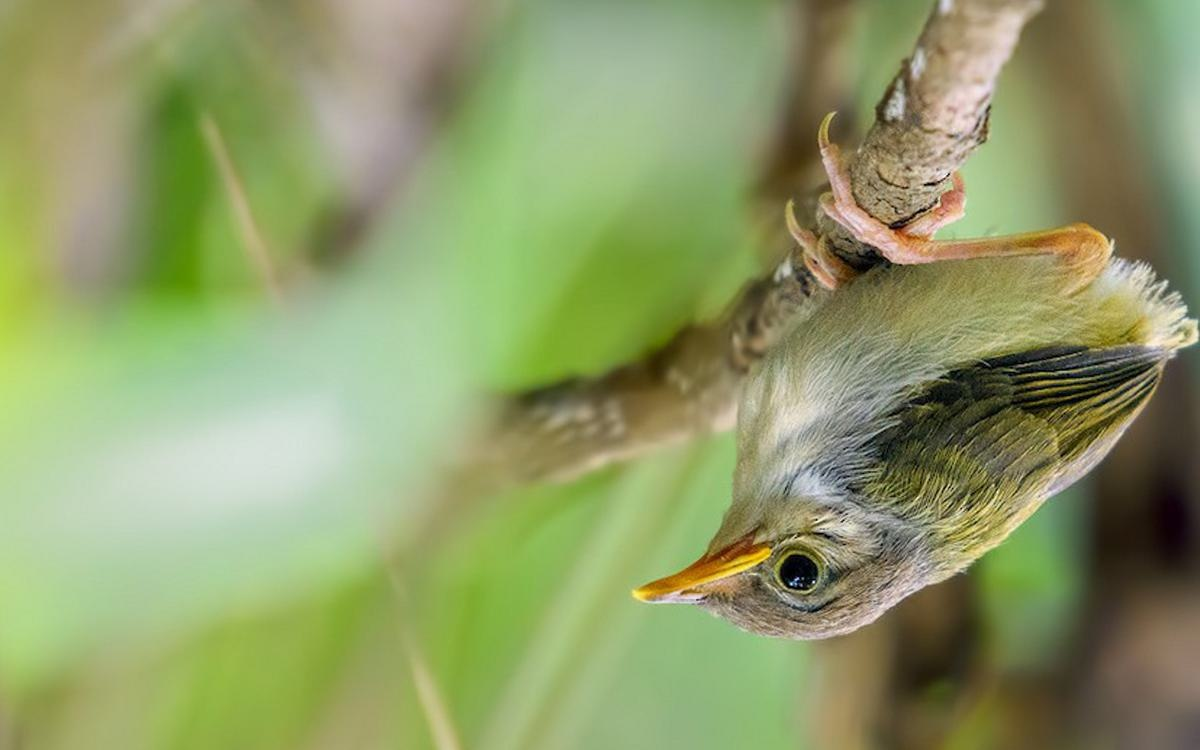tailorbird: (590, 159, 1196, 663)
